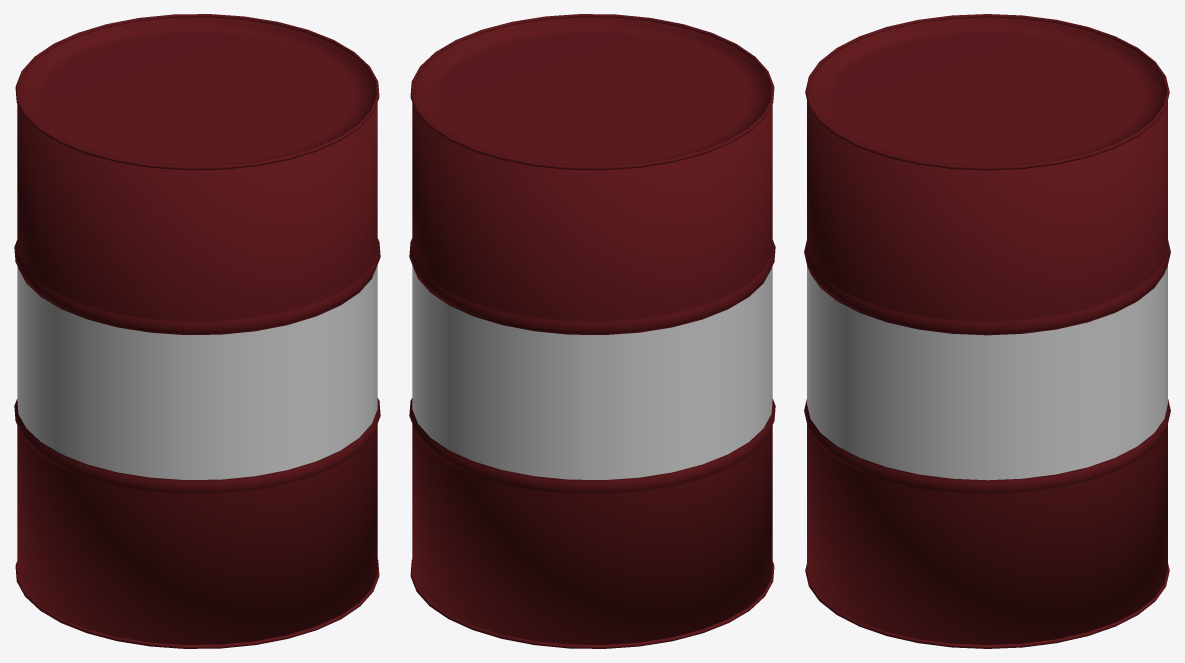
The picture shows the model from 3 angles, left to right: view 1: azimuth 30°, elevation 25°; view 2: azimuth 150°, elevation 25°; view 3: azimuth 270°, elevation 25°; orthographic projection.
Visible parts, largest first — view 1: 13. gentong.002; view 2: 13. gentong.002; view 3: 13. gentong.002.
Part boxes in pixels (x1,y1,x2,y2): 13. gentong.002: (14, 14, 380, 648); 13. gentong.002: (409, 14, 775, 648); 13. gentong.002: (804, 14, 1170, 648).
Bounding box in the file's own units: 51.29 × 74.37 × 51.29.
